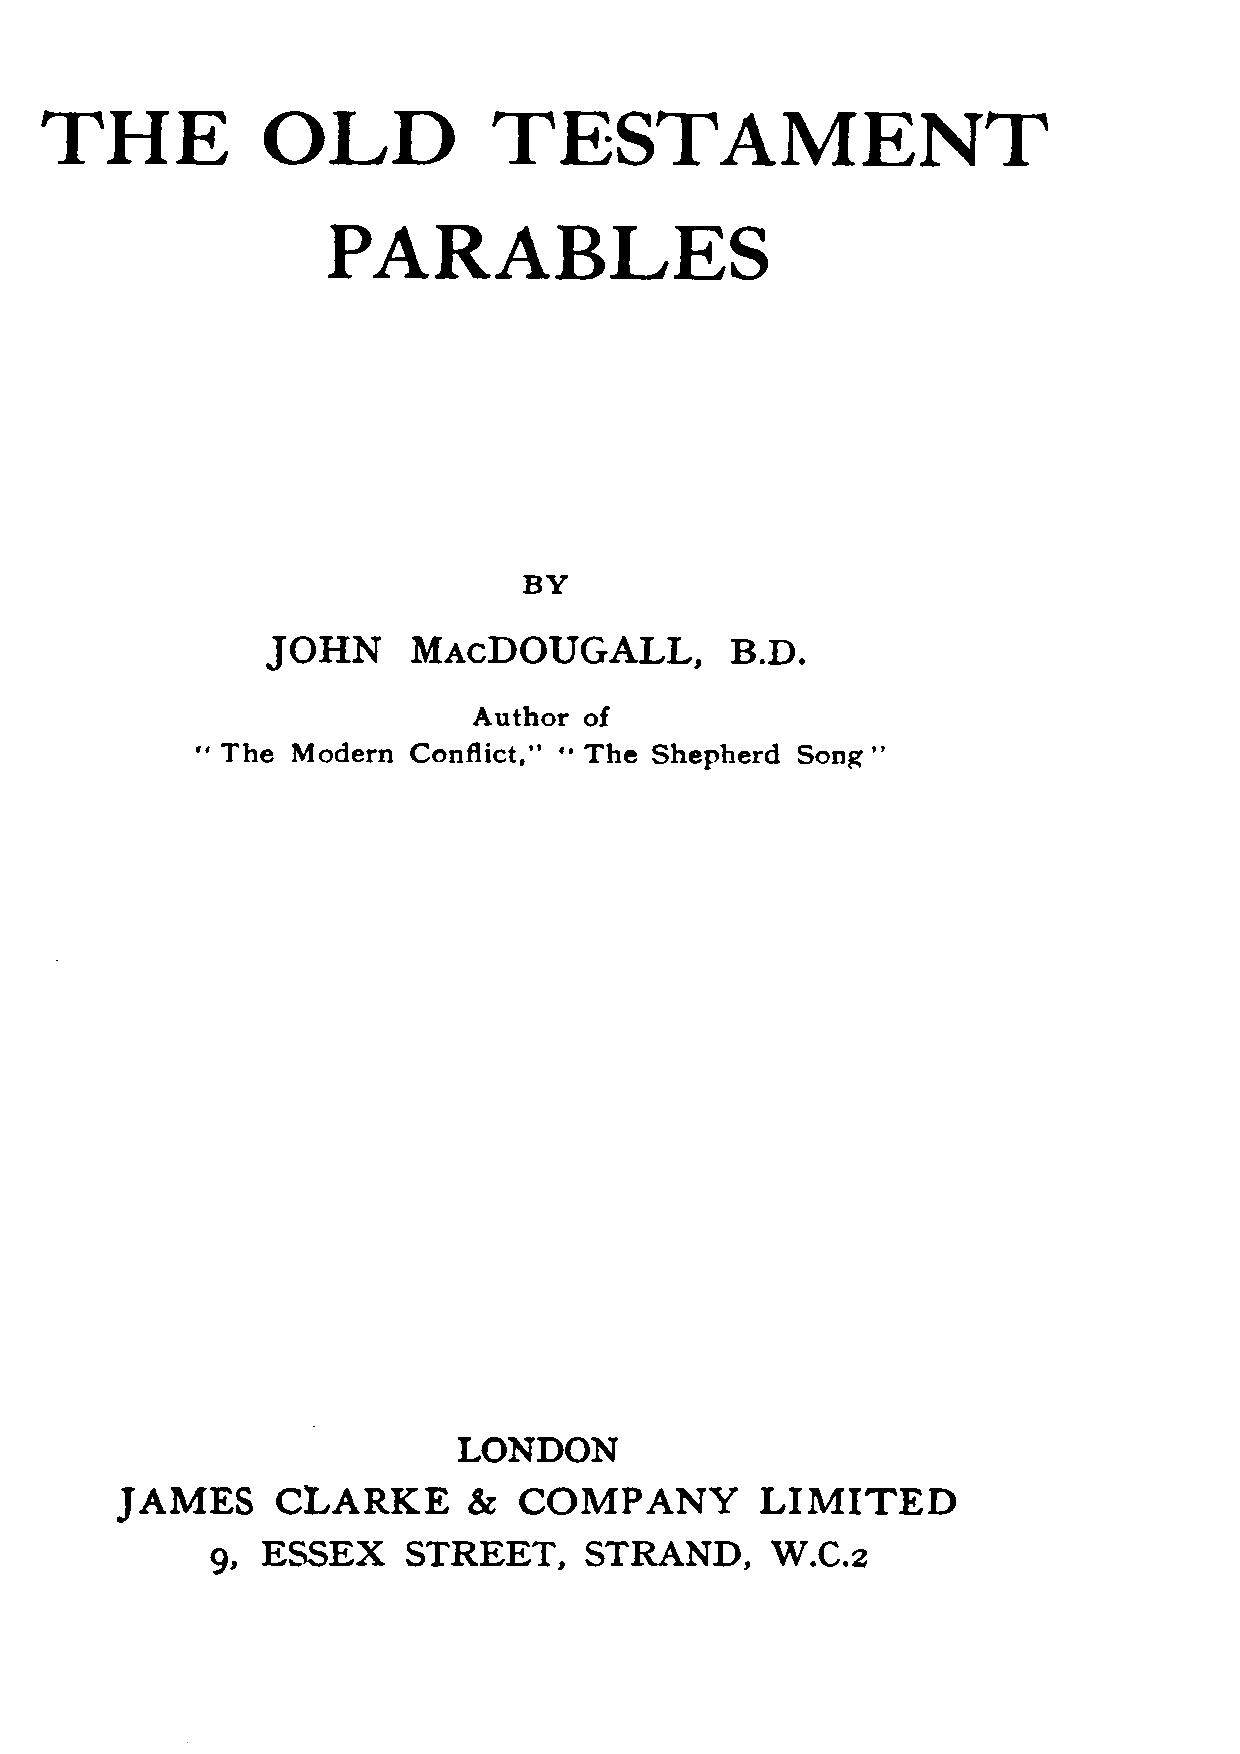author: (263, 570, 807, 672)
title: (38, 106, 1049, 280)
